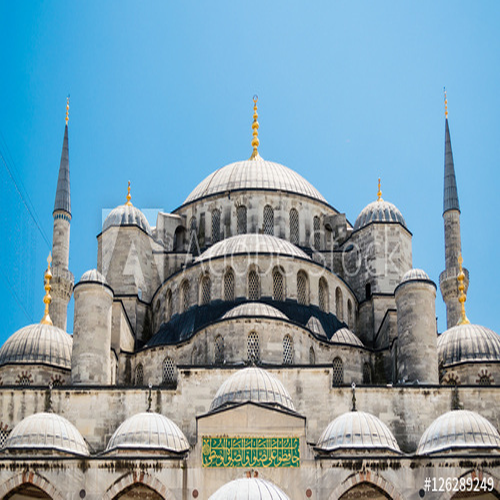Mosque: (4, 73, 498, 490)
